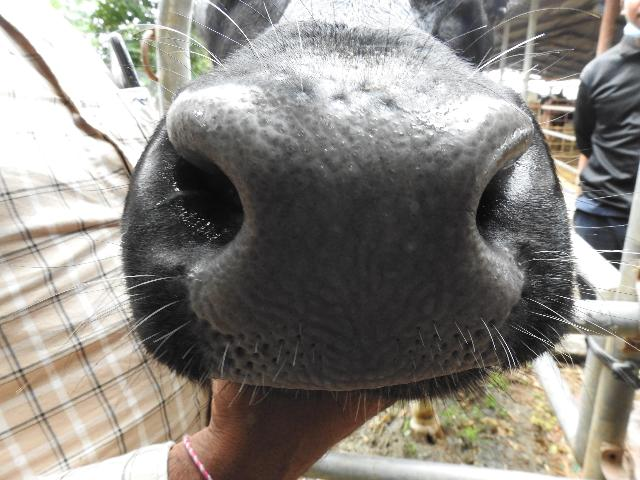Muzzle: (240, 98, 466, 360)
